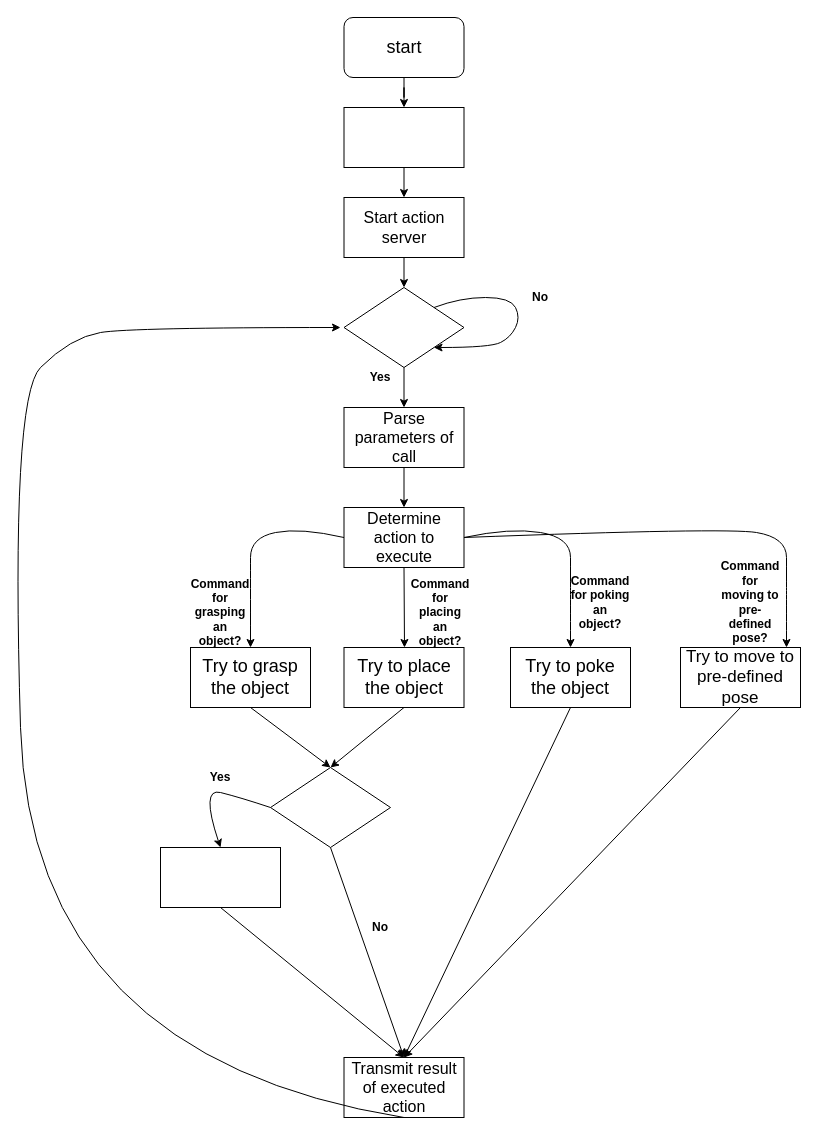
Some shapes in this 818 by 1135 pixel diagram are drawn without their labels. Here are the shapes that lost their labels. From the top down, the box of each, then its label:
(343, 106, 464, 168): Get kitchen objects for planningscene
(343, 286, 464, 368): Action server called?
(270, 766, 390, 848): Grasped/Placed successfully?
(160, 846, 280, 908): Publish message to inform knowledge
